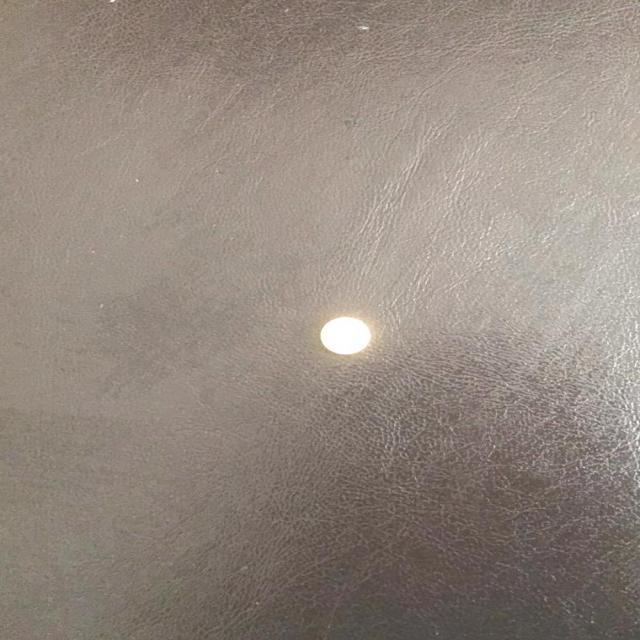pill: (317, 314, 372, 356)
